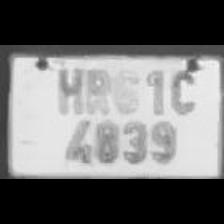1: (140, 66, 168, 114)
3: (119, 117, 147, 165)
4: (59, 112, 91, 166)
8: (92, 114, 120, 164)
9: (147, 118, 179, 166)
C: (165, 66, 195, 114)
H: (51, 63, 84, 111)
R: (83, 68, 113, 110)
